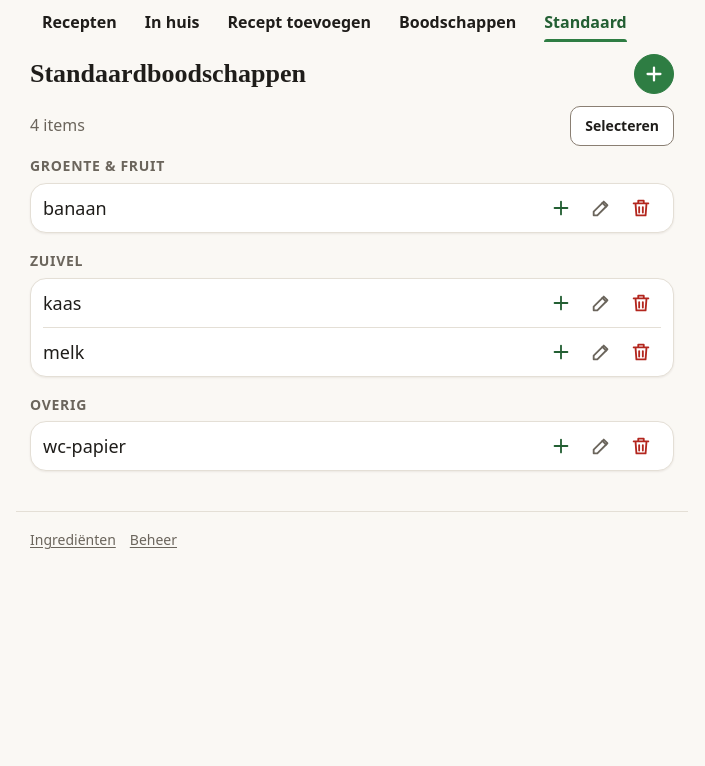
Test case: StandardItemsView › bewerkt een item op zijn plek, en annuleren laat het ongemoeid
The width and height of the screenshot is (705, 766).
Click the 4th button with class "edit".
click(601, 446)  # box [581,426,621,466]
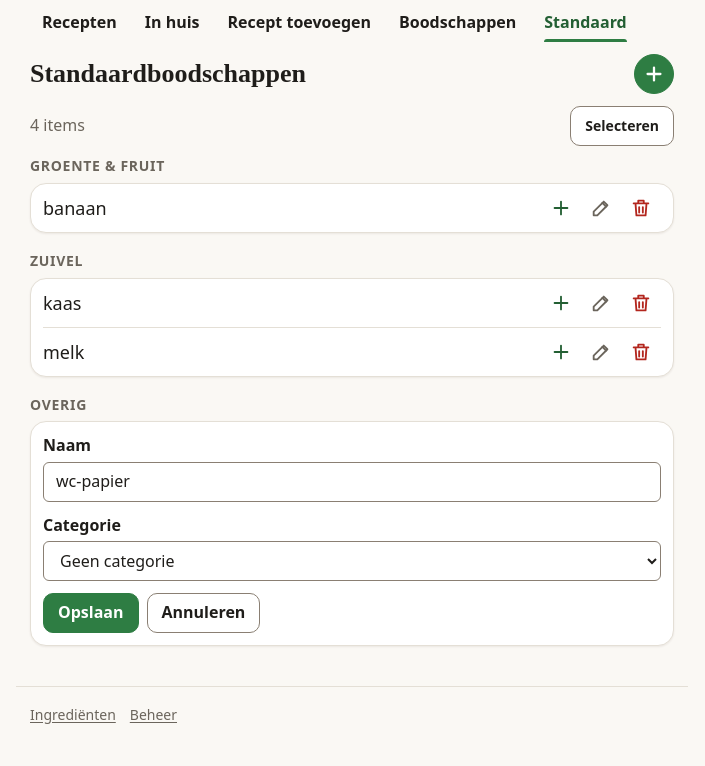
expect the field with class "name" holds "wc-papier": met, box [43,462,661,502]
Click the button with class "cancel".
click(203, 613)  # box [146,593,260,633]
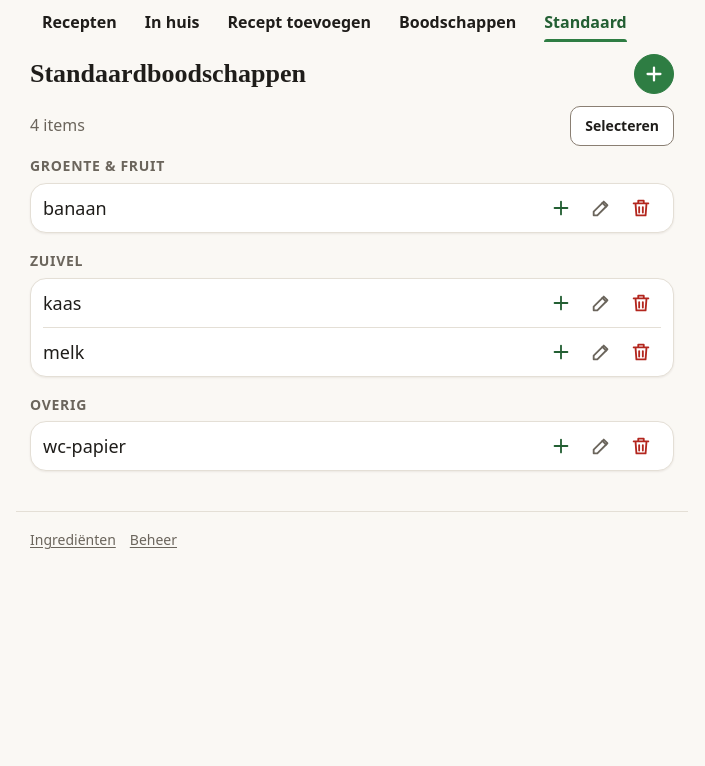
Click the 4th button with class "edit".
click(601, 446)  # box [581,426,621,466]
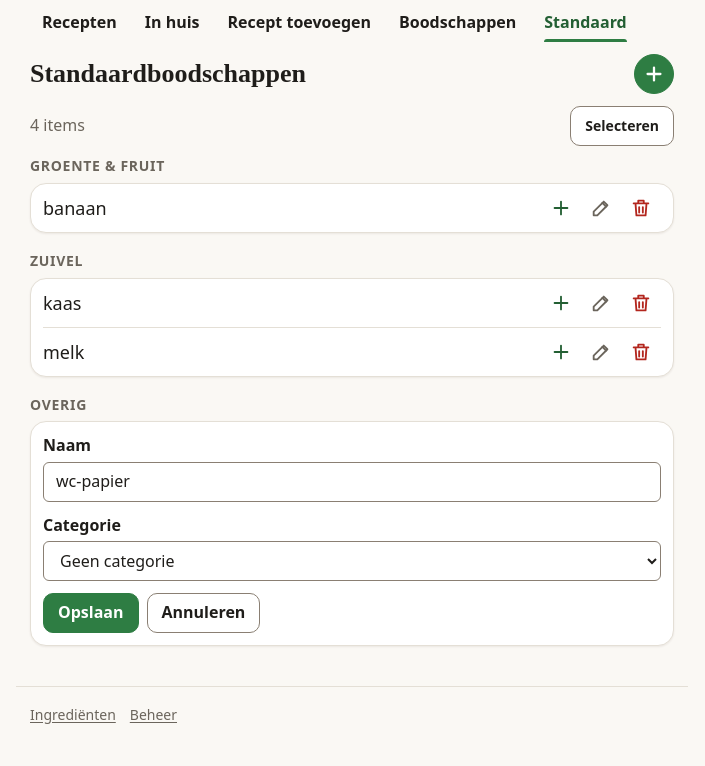
Replace the text in the field with class "name" with "Toiletpapier" at (352,482), box [43,462,661,502]
Select "Nieuwe categorie…" in the dropdown with class "category" at (352,561), box [43,541,661,581]
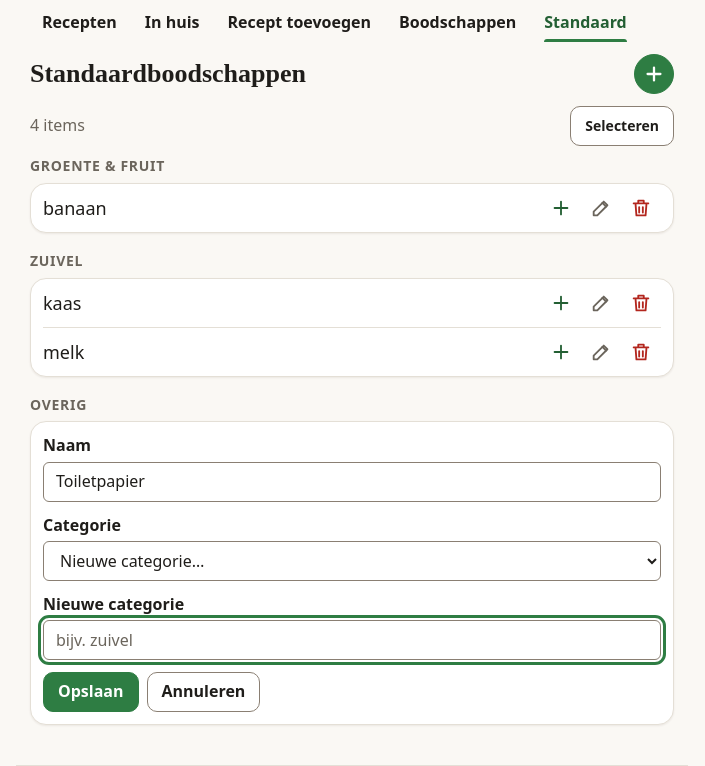
Type "huishouden" into the field with class "new-category".
click(352, 640); type("huishouden")  # box [43,620,661,660]
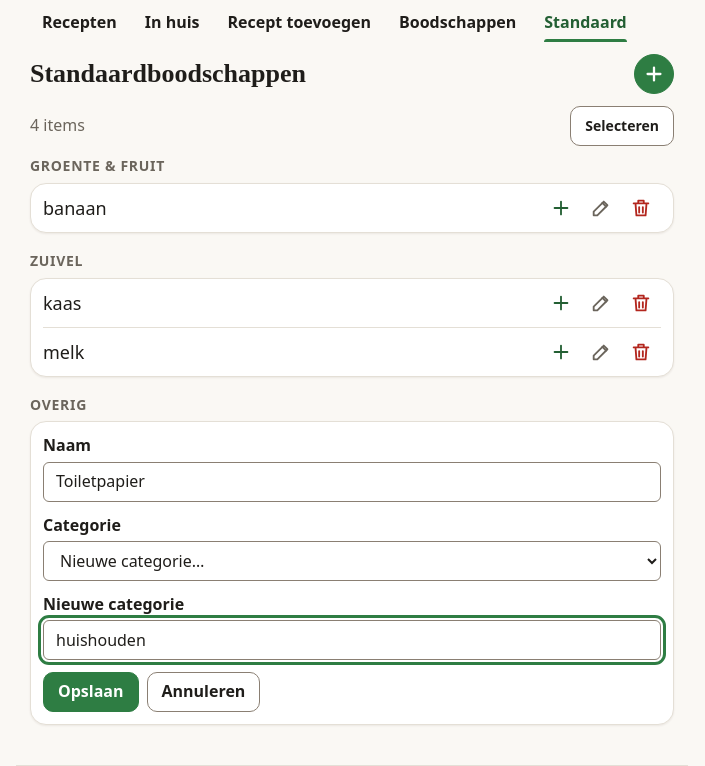
Submit the form, box [43,434,661,712]
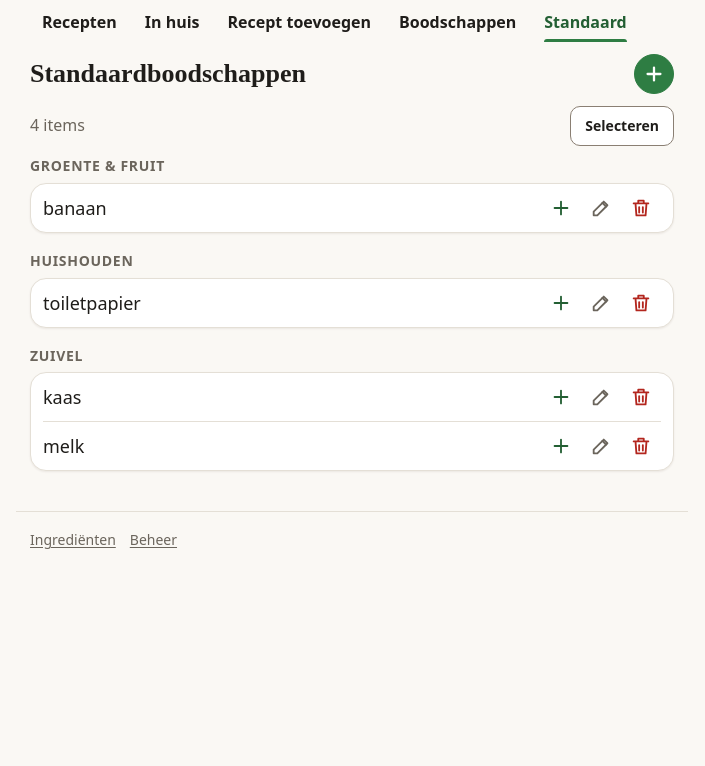
expect the heading "huishouden" is shown: met, box [30,251,134,270]
